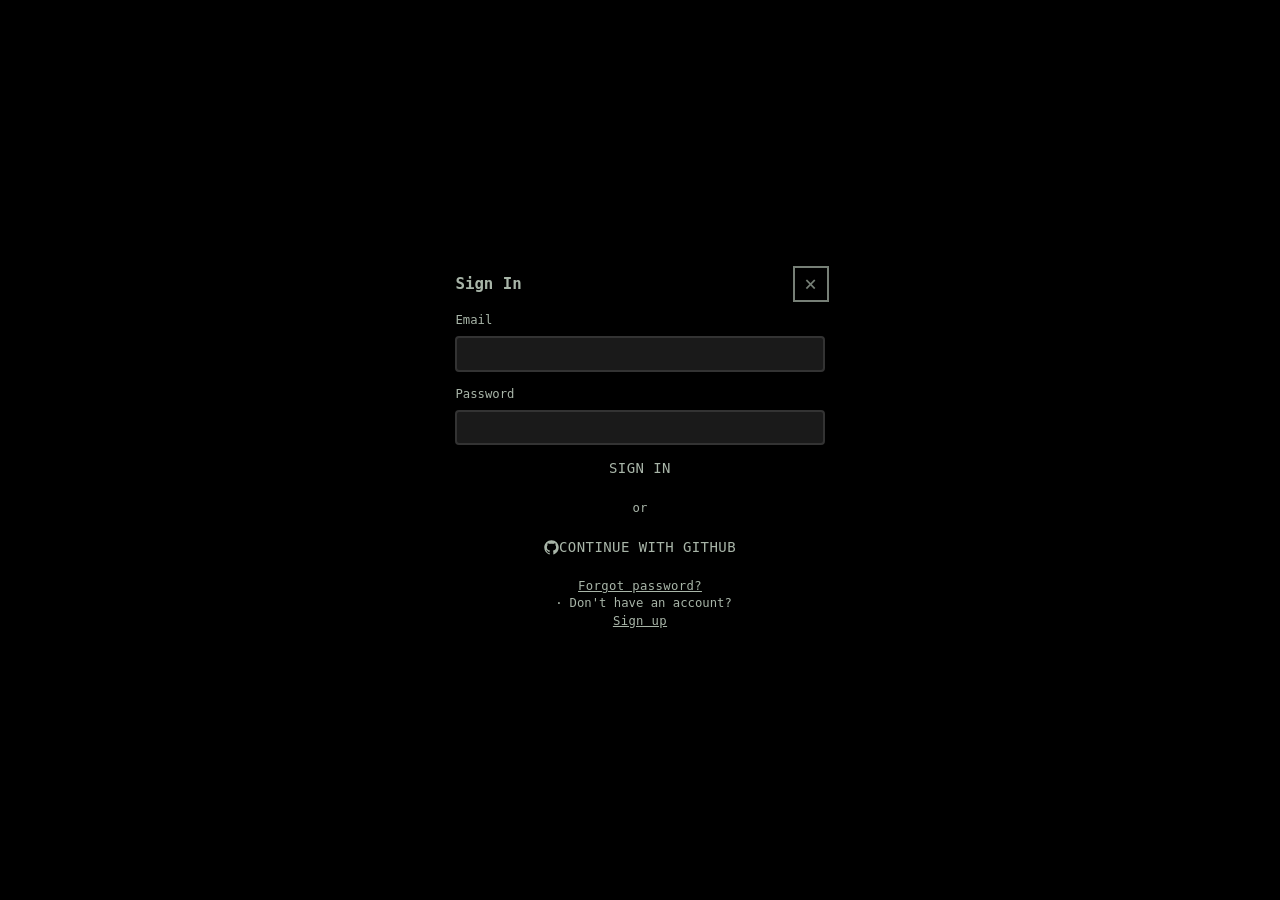
Test: AuthModal › sign up flow › shows success message on sign up
Click the button "Sign up".
click(640, 621)  # box [455,612,824,630]
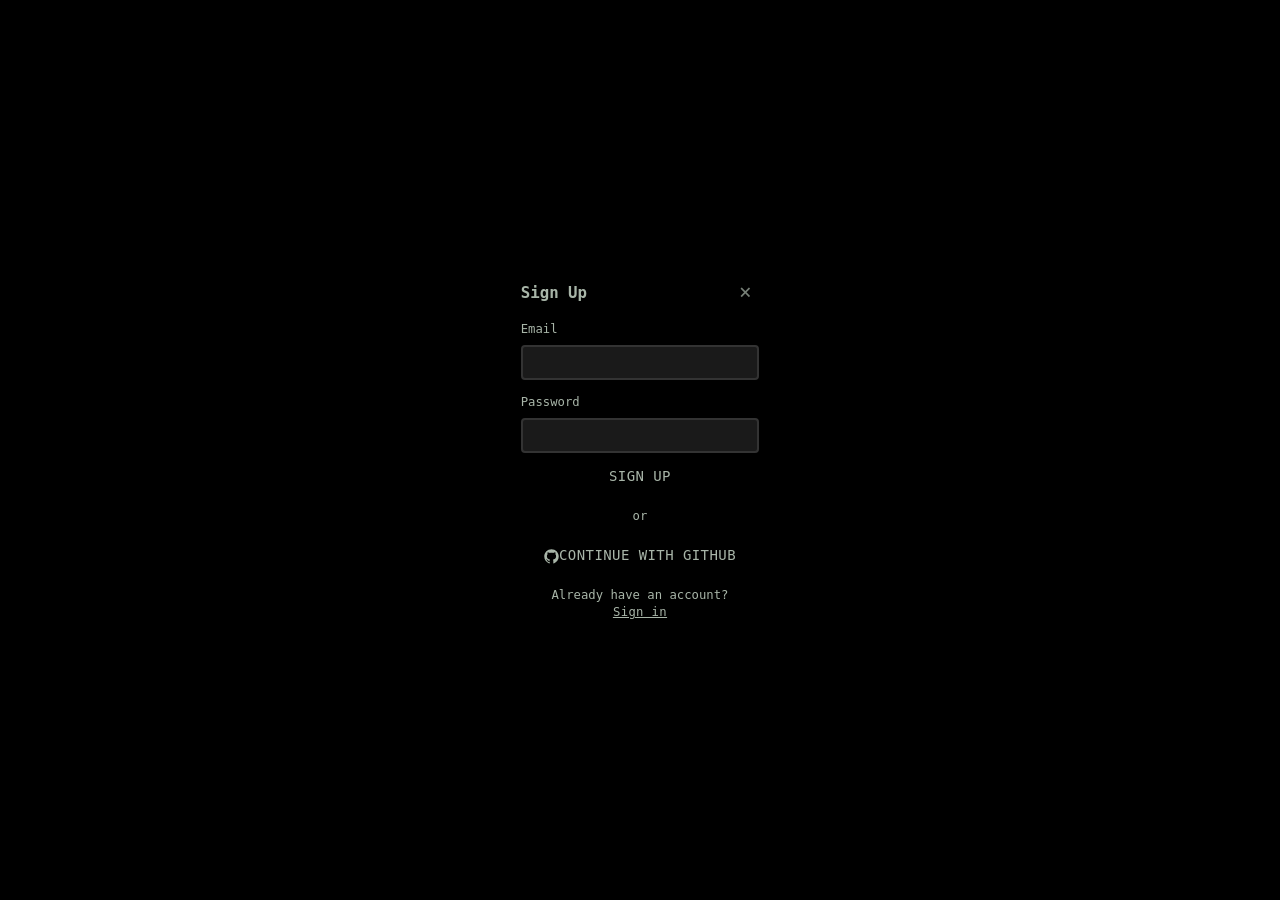
Type "new@example.com" into the field labelled "Email".
click(640, 363); type("new@example.com")  # box [521,345,759,380]
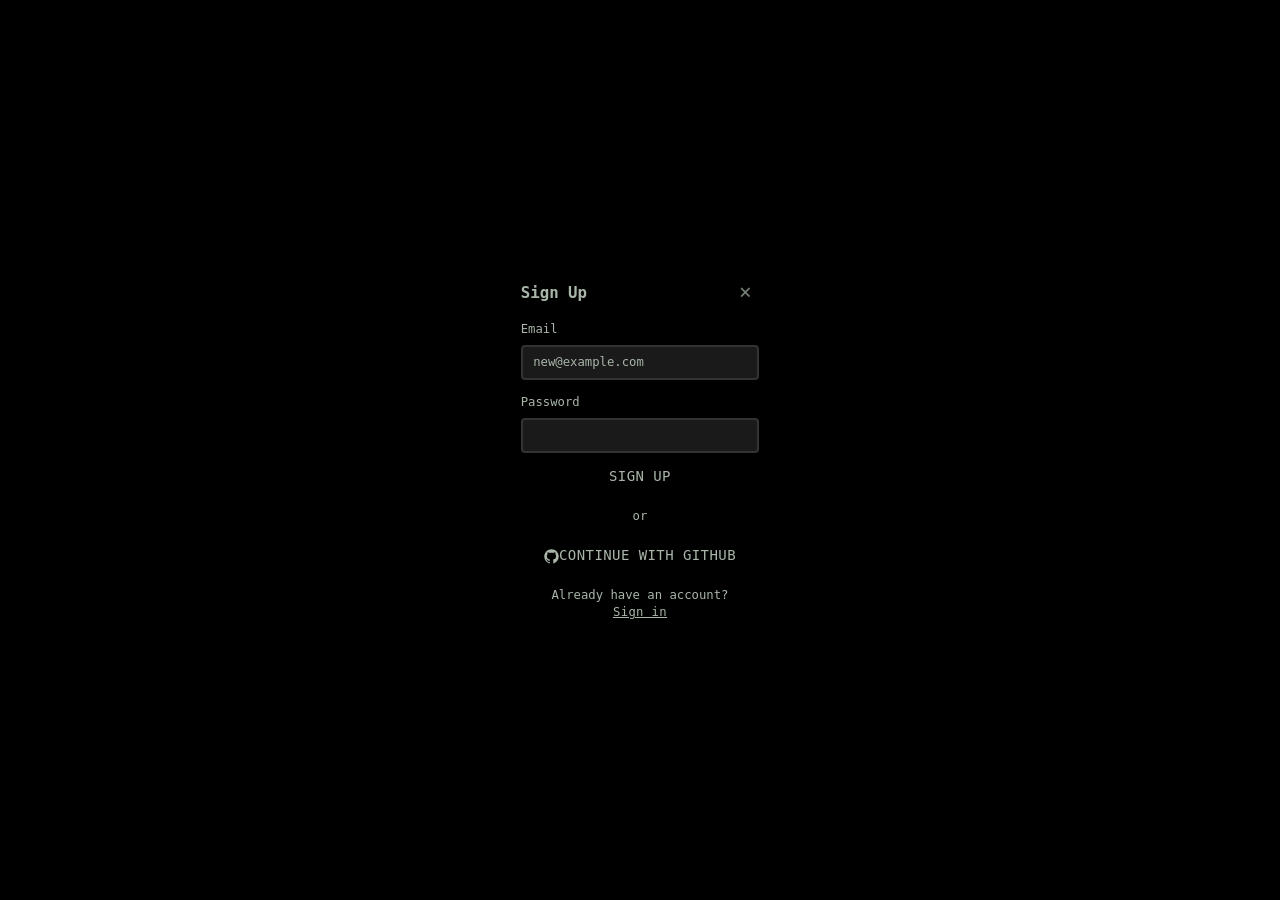
Type "newpassword" into the password field labelled "Password".
click(640, 436); type("newpassword")  # box [521,418,759,453]
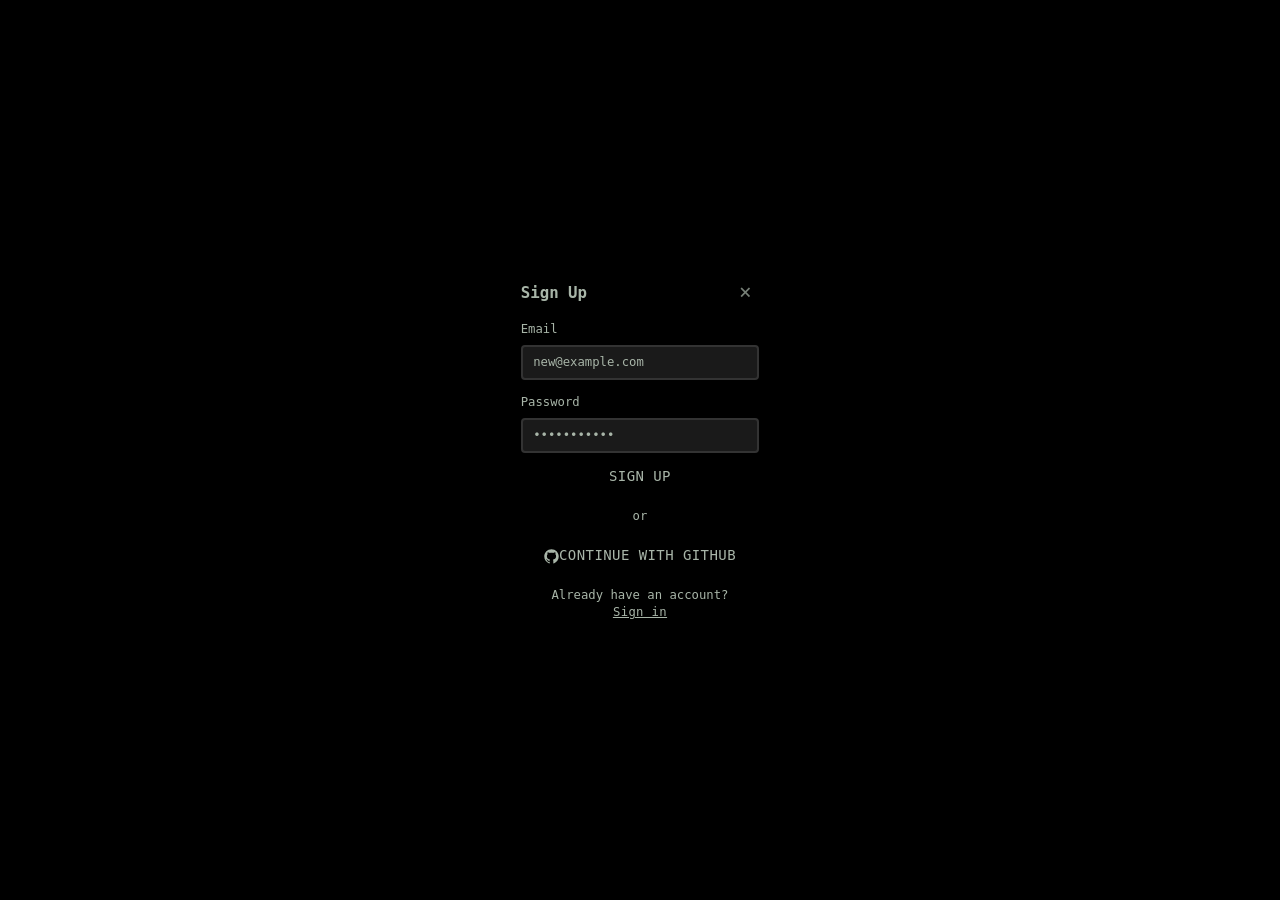
Click the button "Sign Up".
click(640, 477)  # box [521,468,759,487]
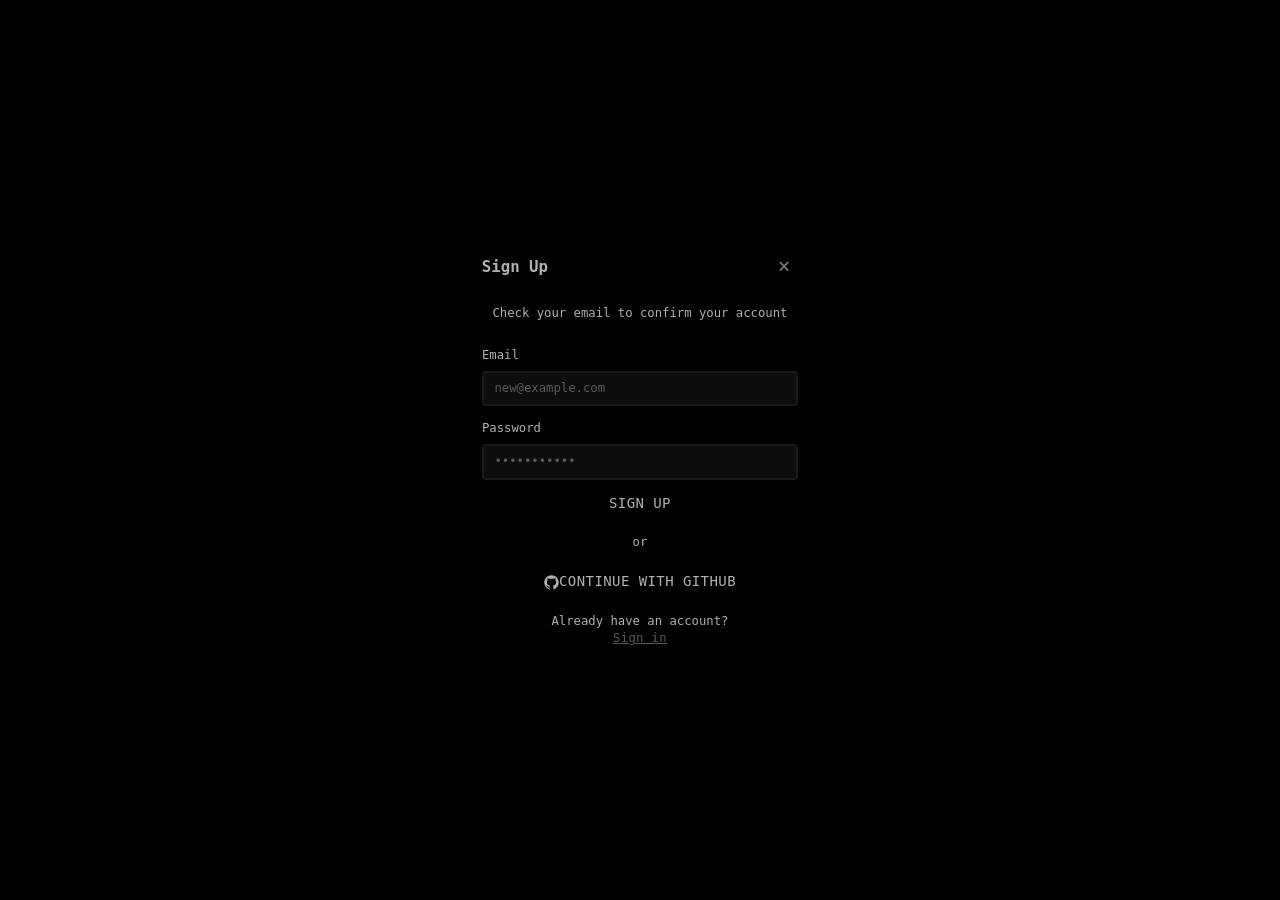
Expected: the text "Check your email to confirm your account" is shown, [492,306,788,320]
